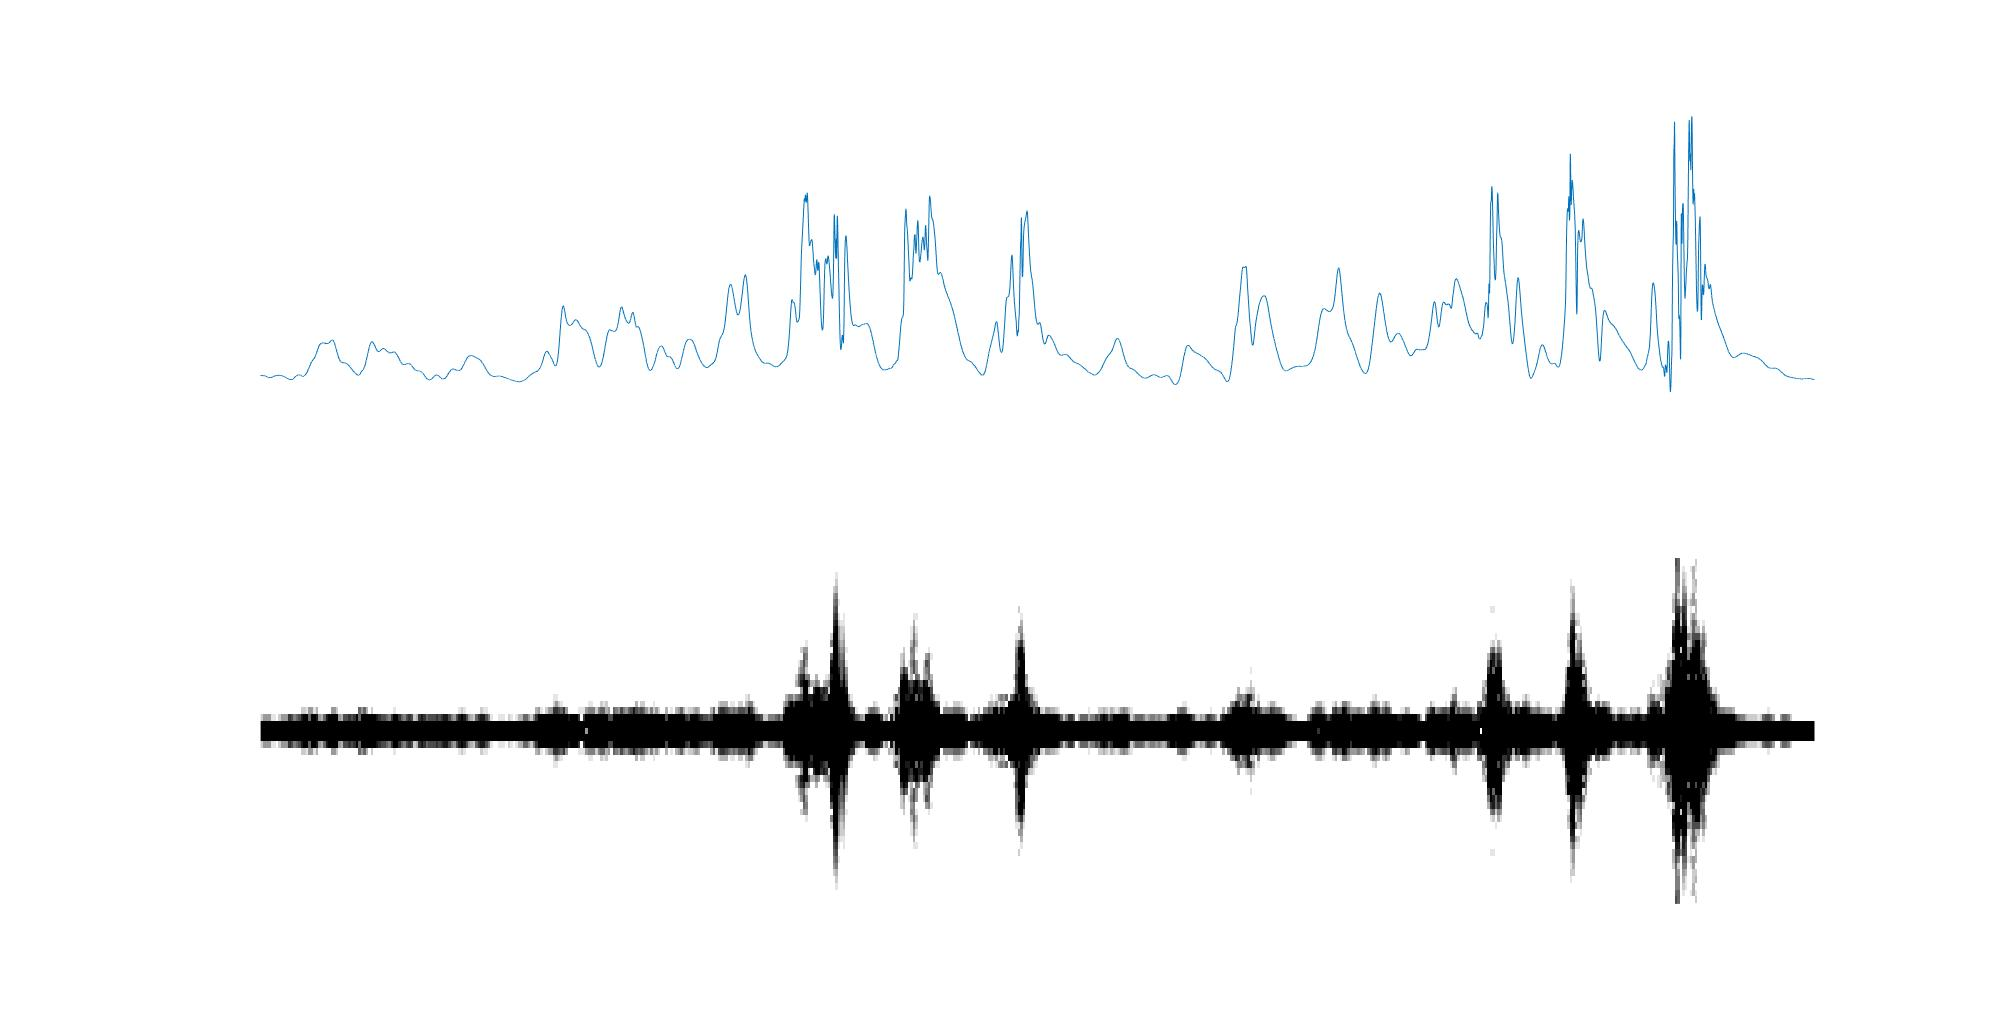spot: (1668, 553, 1714, 907), (813, 591, 857, 876), (1561, 584, 1597, 875)
